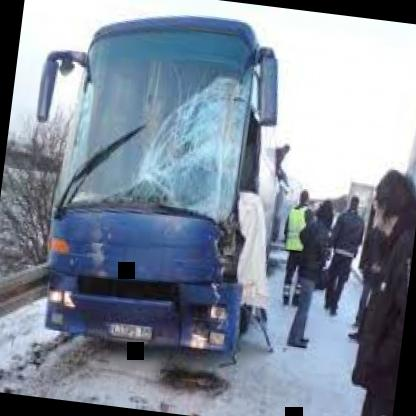accident: (0, 9, 312, 396)
